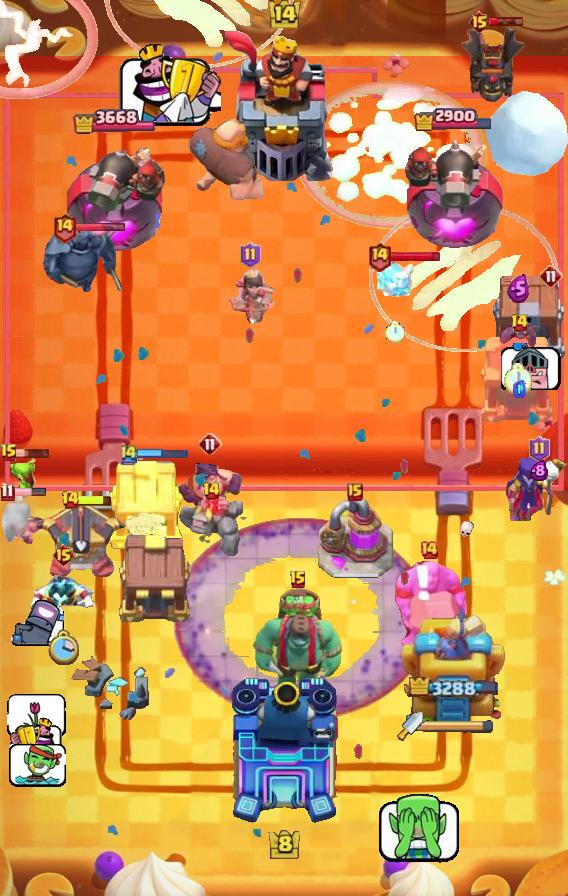archer-evolution: (460, 22, 526, 106)
archer-queen: (389, 559, 469, 653)
axe: (504, 455, 568, 521)
balloon: (186, 118, 266, 206)
bar: (401, 601, 505, 731)
barbarian-barrel: (498, 322, 538, 350)
barbarian-evolution: (0, 1, 98, 100)
bat: (374, 260, 416, 302)
bomb: (106, 457, 186, 551), (116, 531, 196, 625), (480, 336, 558, 424), (490, 276, 568, 362)
electro-spirit: (507, 274, 530, 303), (530, 460, 548, 481), (514, 380, 526, 398)
elixir: (47, 629, 79, 667), (504, 363, 532, 395), (385, 321, 405, 343)
emote: (137, 447, 189, 460), (390, 249, 441, 262), (74, 222, 126, 233), (77, 494, 113, 507), (13, 447, 51, 459), (488, 17, 524, 28), (11, 487, 47, 497)
golemite: (39, 224, 123, 298)
ice-wizard: (369, 203, 559, 353), (104, 0, 294, 68)
king-tower: (223, 31, 345, 181), (228, 676, 340, 826)
king-tower-bar: (423, 719, 495, 733)
lava-hound: (251, 585, 345, 695)
lava-pup: (36, 498, 128, 580)
lumberjack: (26, 567, 100, 625)
monk: (177, 447, 243, 525)
pekka: (316, 498, 394, 580)
phoenix-big: (294, 78, 488, 230)
rocket: (174, 517, 430, 721)
selected: (73, 106, 155, 138), (409, 676, 497, 700), (414, 105, 495, 130)
skeleton: (119, 42, 222, 126), (374, 794, 462, 864), (6, 742, 65, 790), (502, 343, 563, 389), (6, 693, 65, 738), (8, 600, 63, 648), (10, 718, 62, 760)
skeleton-dragon: (224, 266, 276, 324)
tesla: (0, 497, 48, 549)
text: (51, 212, 76, 243), (367, 240, 392, 271), (539, 264, 563, 288), (198, 432, 222, 456), (468, 10, 491, 34), (52, 543, 75, 567), (240, 242, 261, 268), (529, 436, 550, 462), (119, 443, 139, 464), (510, 313, 530, 333), (419, 540, 439, 560), (202, 481, 221, 501), (60, 490, 79, 510), (0, 443, 18, 463), (289, 570, 307, 590), (347, 483, 363, 501), (1, 483, 16, 501)
tower-bar: (401, 132, 508, 256), (63, 136, 165, 256)
valkyrie-evolution: (178, 495, 244, 557)
wall-breaker: (484, 91, 568, 178)
zap: (0, 457, 36, 495)
